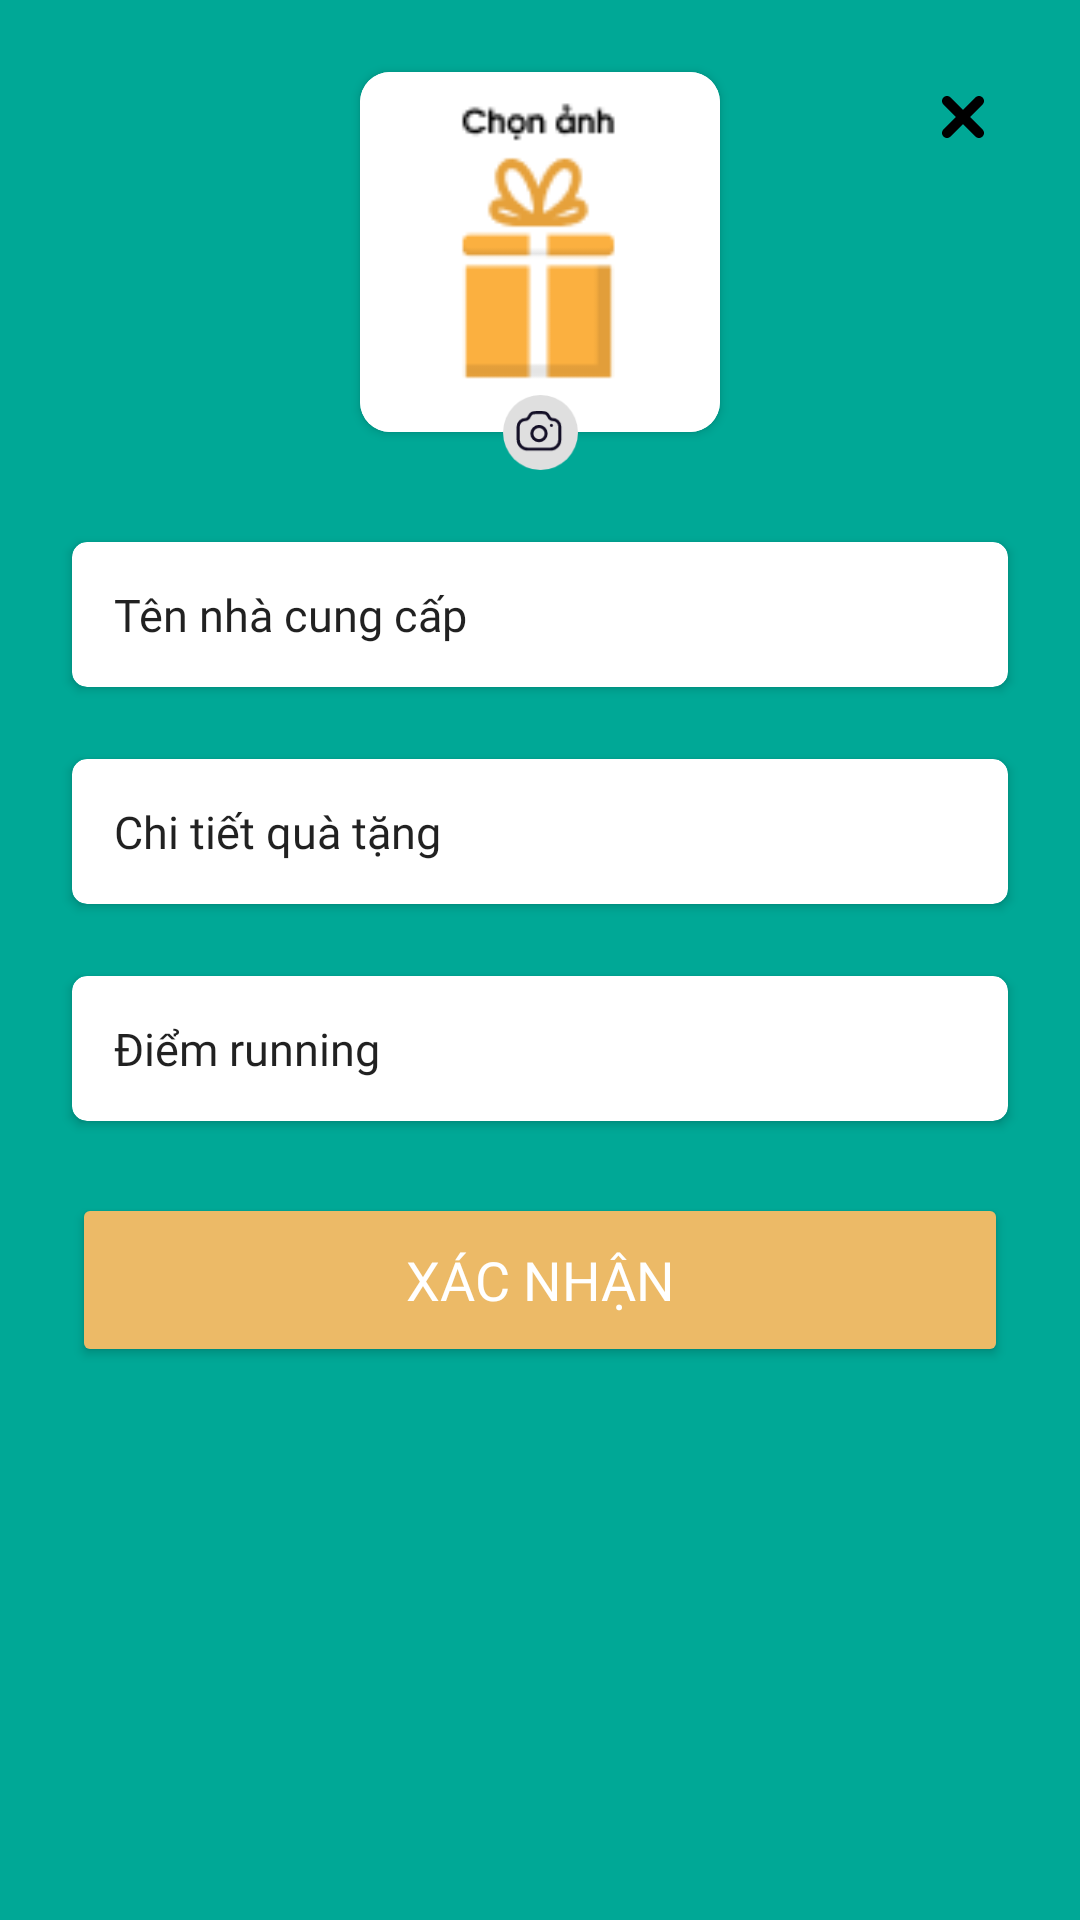

Icons on this 1080 × 1920 Android screen, each with the point to tap as [x,y]:
camera: [540,432]
exit: [963,117]
